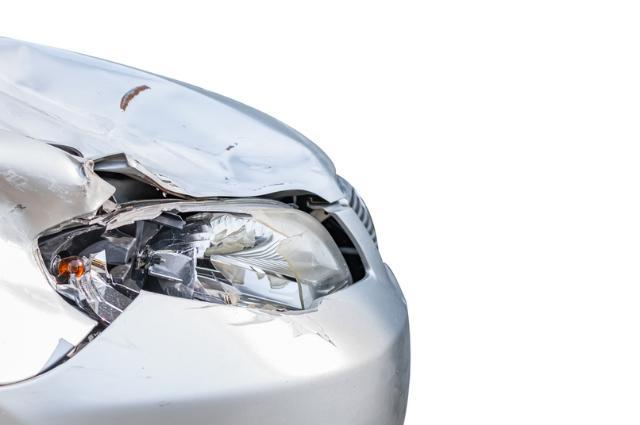Bonnet: (0, 30, 341, 196)
Bumper: (0, 284, 428, 425)
Light: (39, 201, 364, 311)
